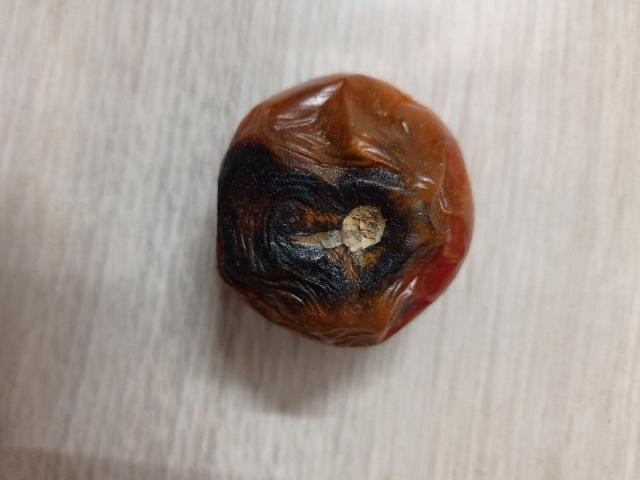defect: (210, 70, 480, 351)
